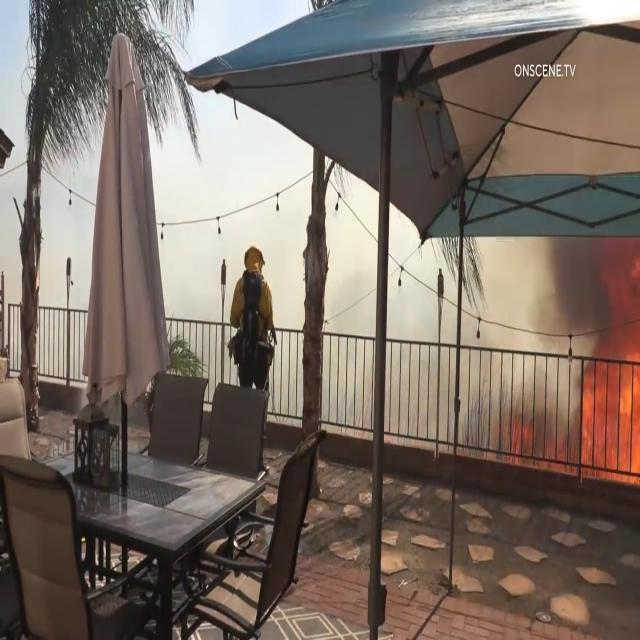Fire: (575, 342, 640, 482)
